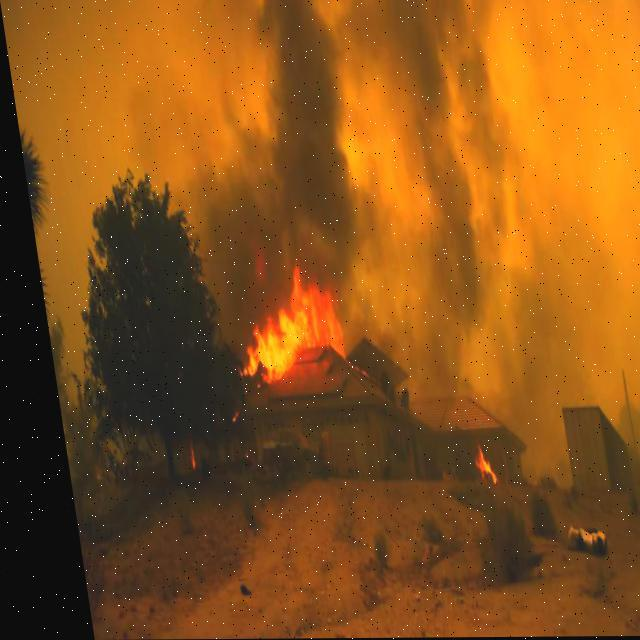Fire: (213, 262, 342, 392), (457, 440, 485, 488)
